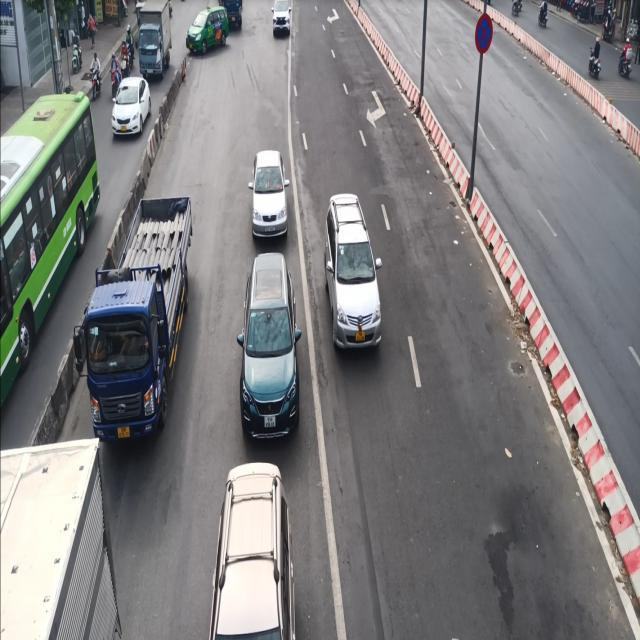bus: (0, 89, 101, 408)
car: (208, 461, 296, 639), (235, 251, 302, 440), (247, 149, 290, 239)
motorcycle: (587, 48, 601, 79)
